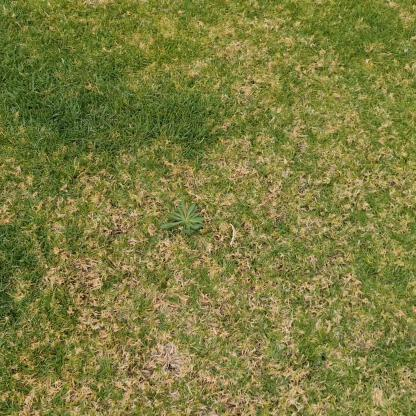Weeds: (160, 202, 204, 235)
